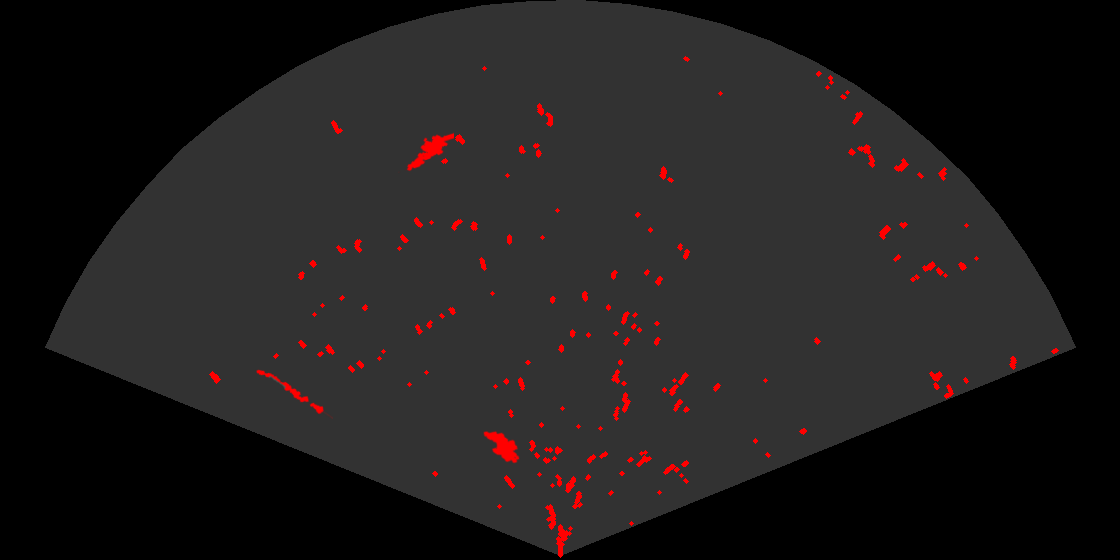AUV: (482, 429, 521, 465)
chain: (255, 368, 333, 419)
frogman: (398, 131, 454, 174)
